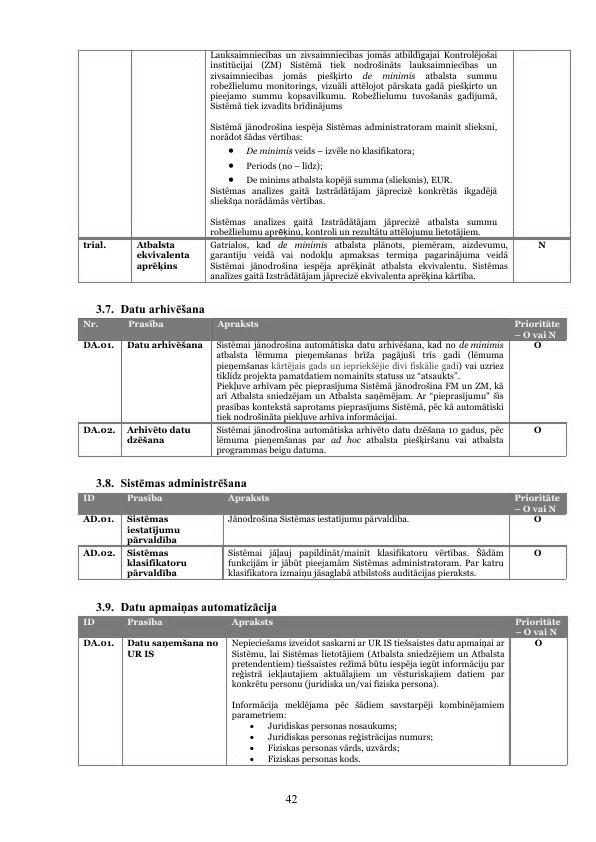table: (73, 46, 573, 287), (75, 613, 573, 770), (73, 316, 570, 463), (71, 491, 571, 583)
text: (92, 474, 249, 491), (92, 600, 279, 611), (89, 300, 206, 317)
